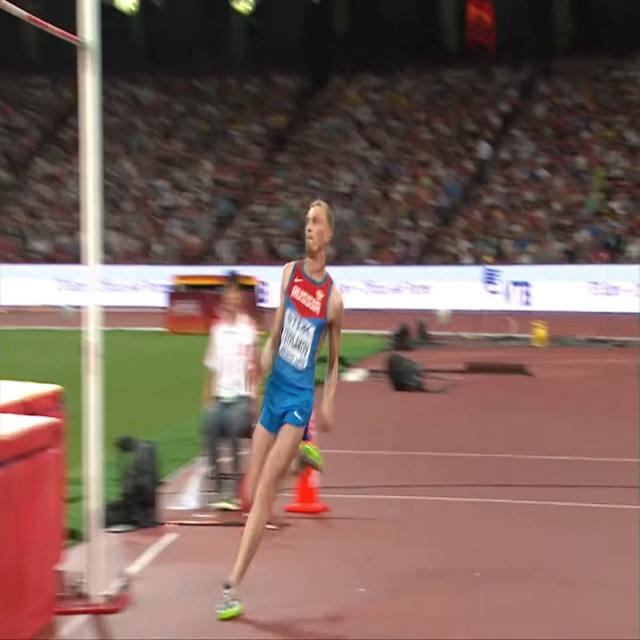run: (216, 198, 344, 624)
